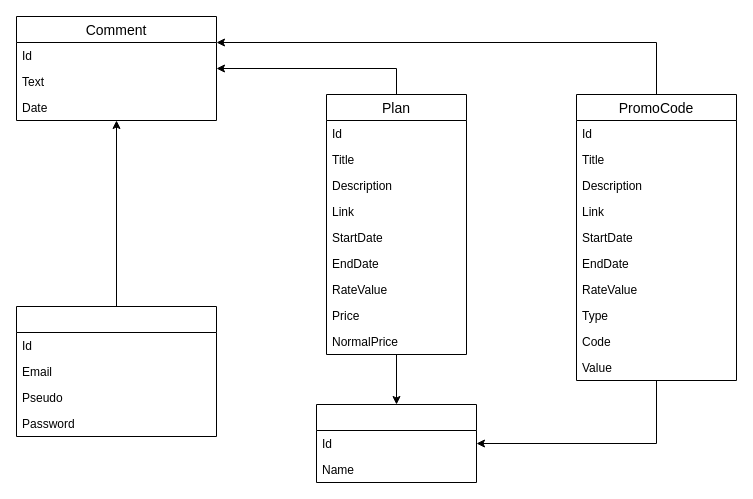
Image size: 753x499. Some labels were removed from this diagram. Each missing label, with the box of its shape:
Group: (316, 404, 476, 482)
User: (16, 306, 216, 436)
